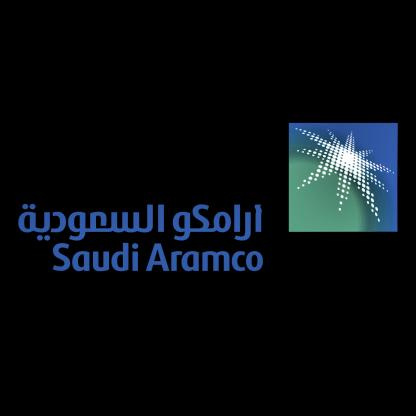Aramco: (290, 120, 402, 235), (145, 244, 262, 272)
